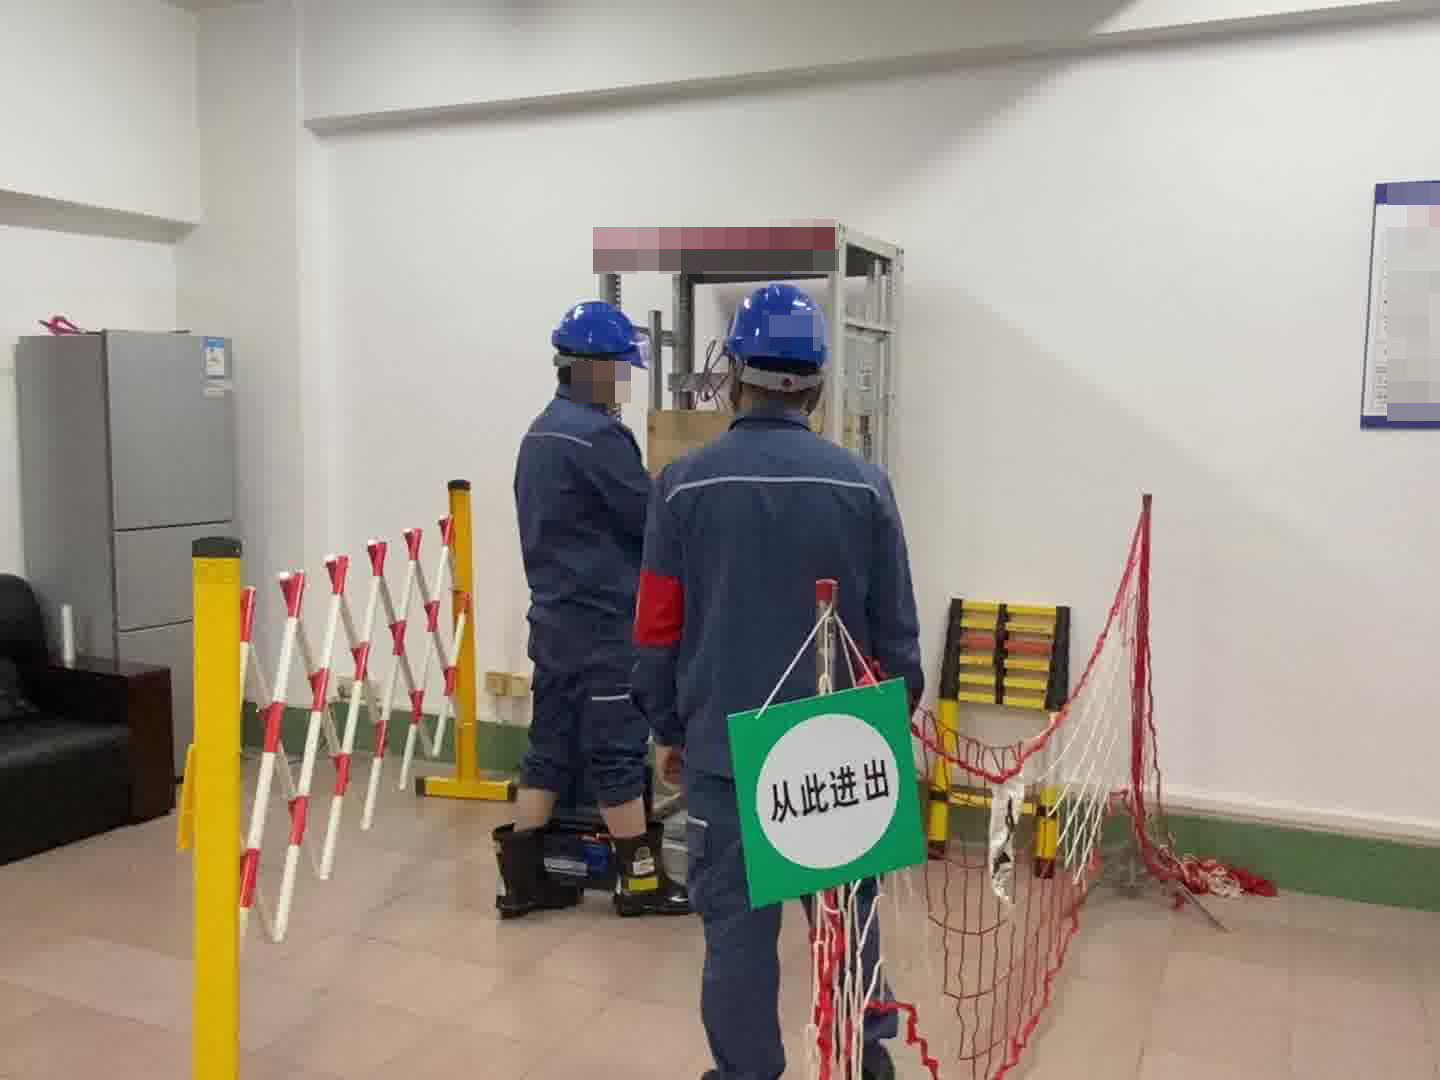badge: (631, 568, 689, 650)
downsuit: (680, 783, 795, 1072), (523, 610, 641, 796)
halt: (722, 280, 833, 410), (549, 299, 650, 397)
hand: (649, 742, 686, 794)
inear: (577, 352, 615, 398)
intosign: (727, 678, 926, 901)
person: (622, 277, 926, 1080), (503, 295, 652, 918)
shoe: (482, 829, 584, 914), (603, 829, 687, 919)
upsuit: (643, 417, 920, 708), (516, 394, 645, 616)
wrongbottom: (503, 749, 568, 833), (594, 769, 642, 831)
